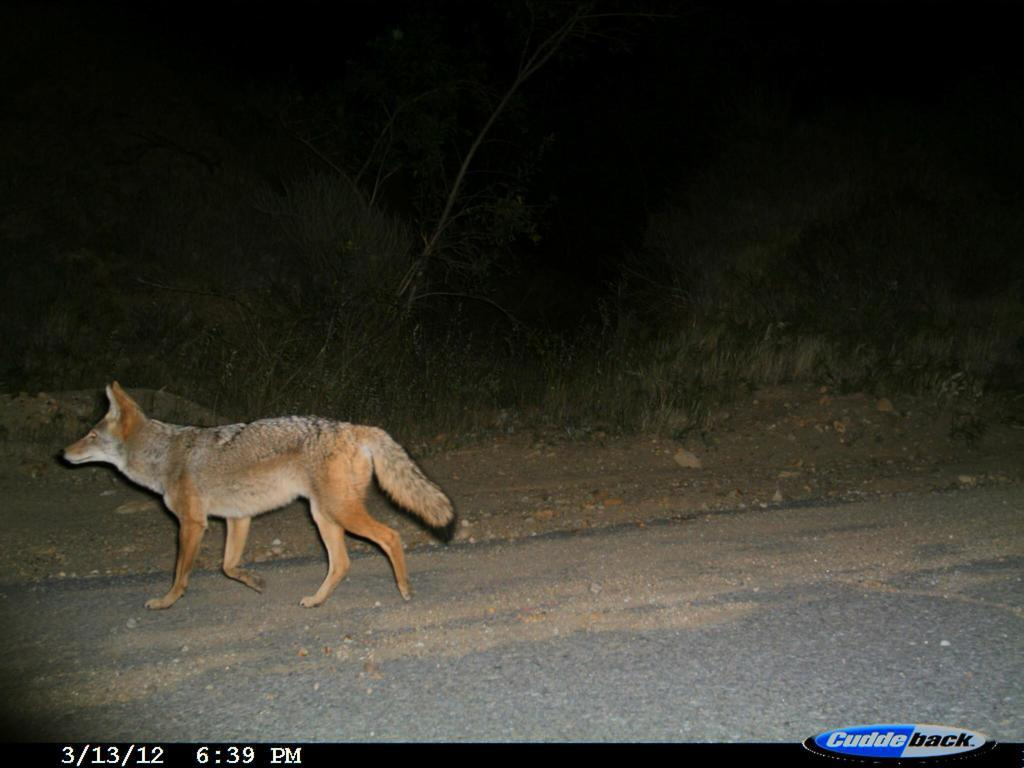coyote: (57, 372, 458, 609)
